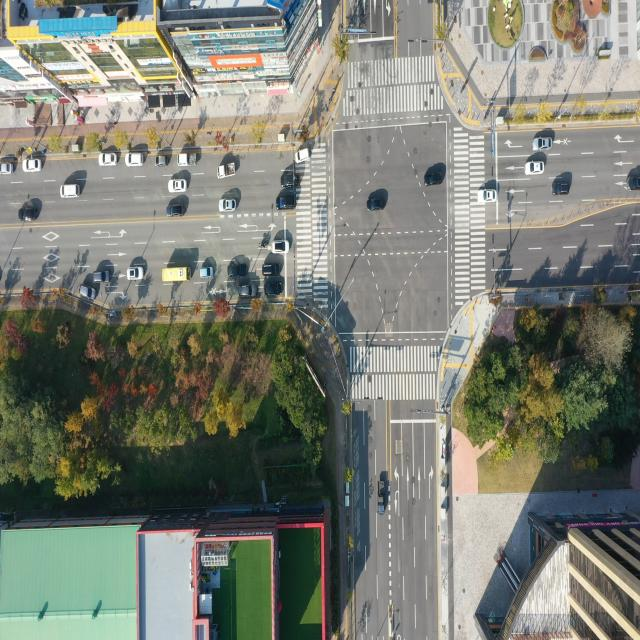car: (238, 284, 259, 302), (424, 172, 444, 188), (368, 198, 388, 214), (281, 173, 301, 189), (61, 183, 81, 198), (24, 159, 44, 174), (18, 207, 38, 222), (98, 153, 118, 168), (479, 188, 497, 203), (127, 152, 145, 166), (218, 199, 236, 213), (128, 268, 146, 282), (262, 263, 280, 277), (526, 162, 544, 175), (553, 183, 571, 196), (294, 148, 310, 162), (81, 285, 97, 299), (168, 205, 185, 218), (170, 179, 187, 192), (534, 138, 552, 150), (277, 198, 295, 210), (273, 241, 289, 254), (266, 284, 283, 296), (230, 267, 248, 278), (94, 272, 110, 284), (156, 156, 171, 168), (628, 176, 640, 191), (201, 268, 215, 280), (0, 163, 14, 175), (197, 268, 210, 280)
small_bus: (161, 267, 192, 284)
small_truck: (215, 162, 236, 180), (178, 154, 198, 168), (379, 479, 386, 515)
